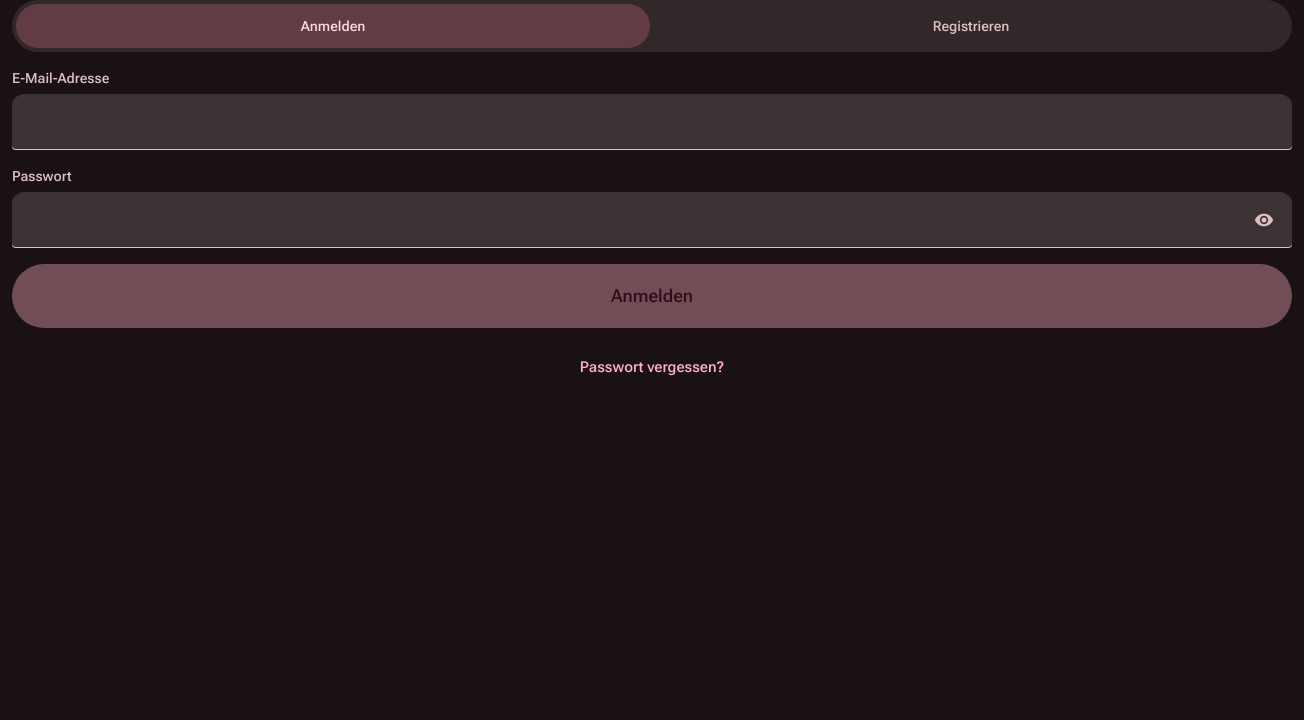
Test: EmailAuth › offers to resend the link when the address is not confirmed yet
Type "lisa@example.com" into the field labelled "E-Mail-Adresse".
click(652, 122); type("lisa@example.com")  # box [12, 94, 1292, 150]
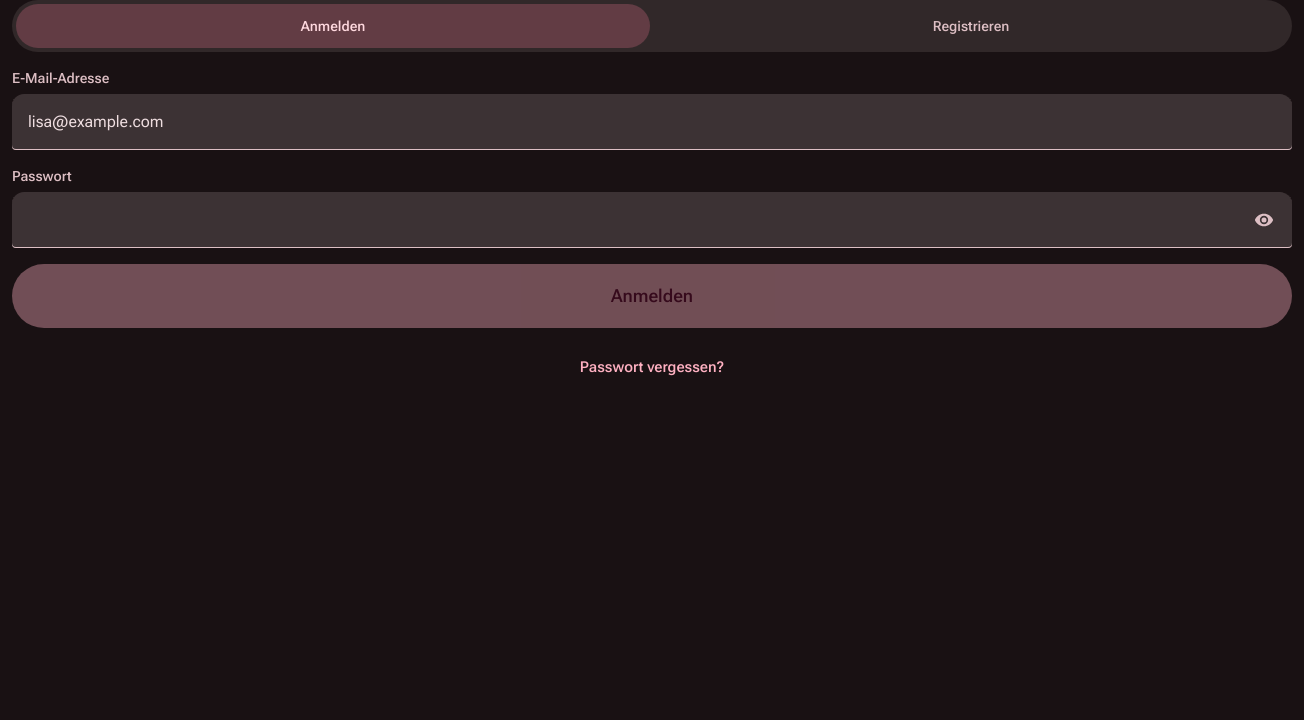
Type "geheim123" into the password field labelled "Passwort".
click(652, 220); type("geheim123")  # box [12, 192, 1292, 248]
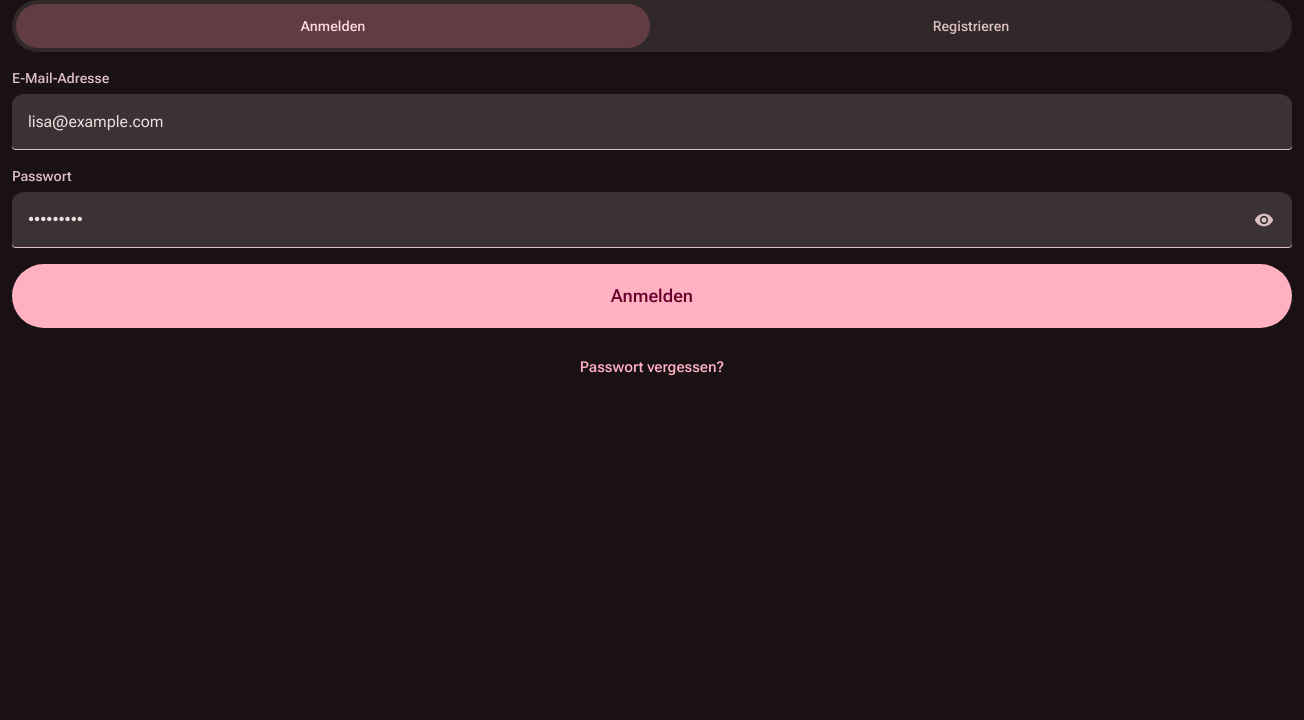
Click the button "Anmelden".
click(652, 296)  # box [12, 264, 1292, 328]
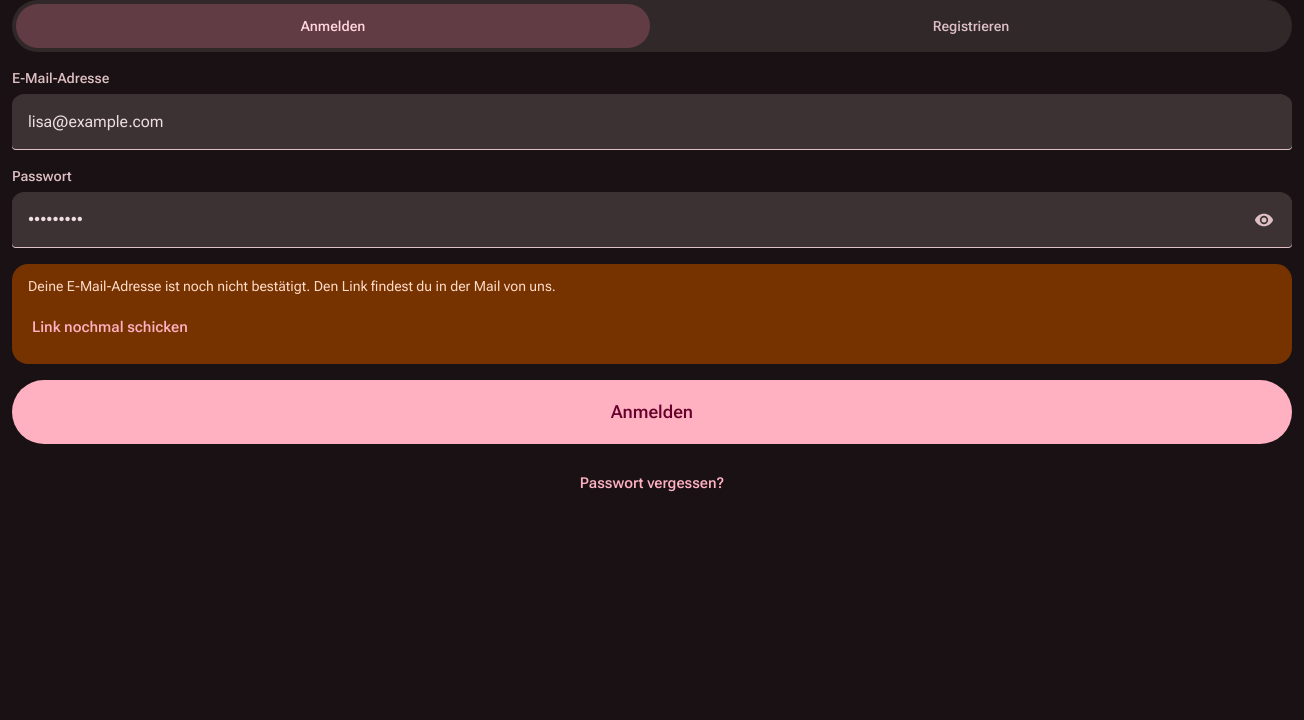
Click the button "Link nochmal schicken".
click(110, 328)  # box [16, 304, 204, 352]
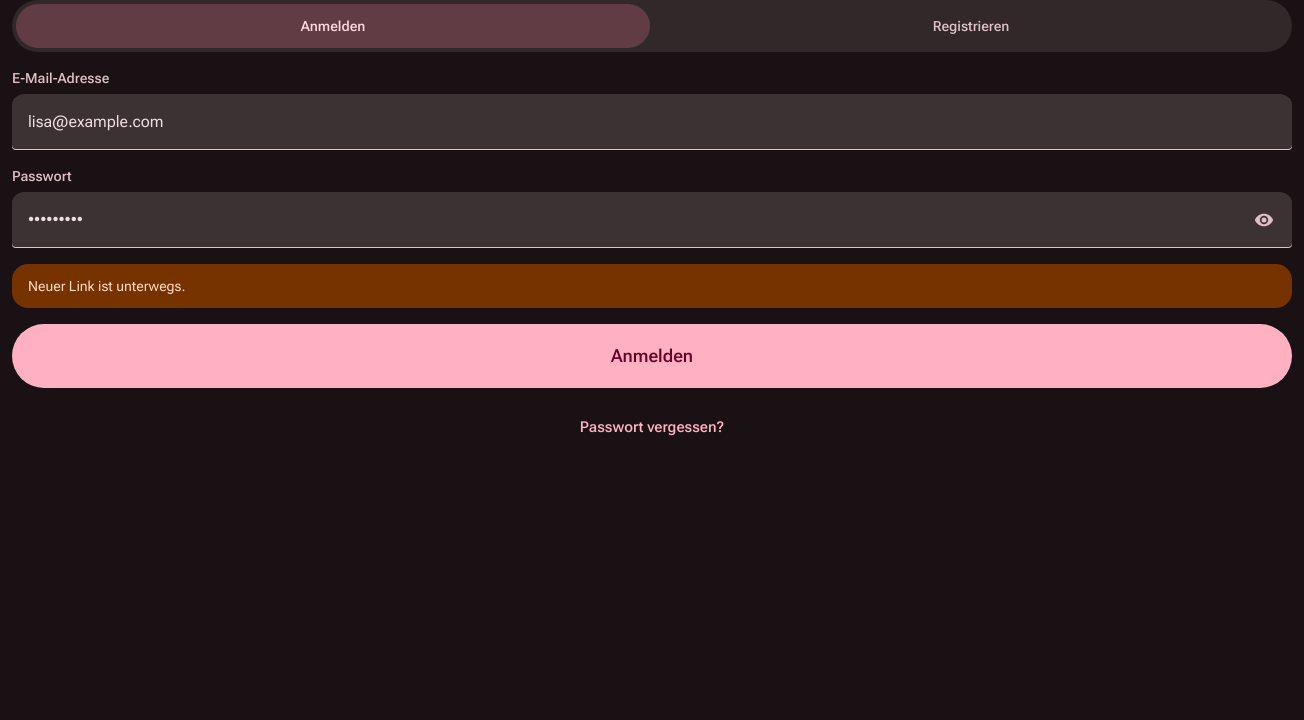
Check: the text "Neuer Link ist unterwegs." is shown, box [28, 278, 186, 294]
